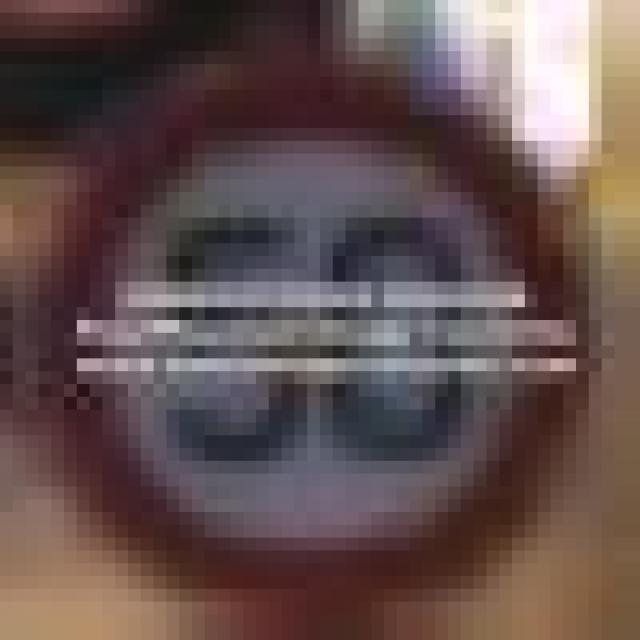SPEED_LIMIT_50: (38, 64, 589, 589)
